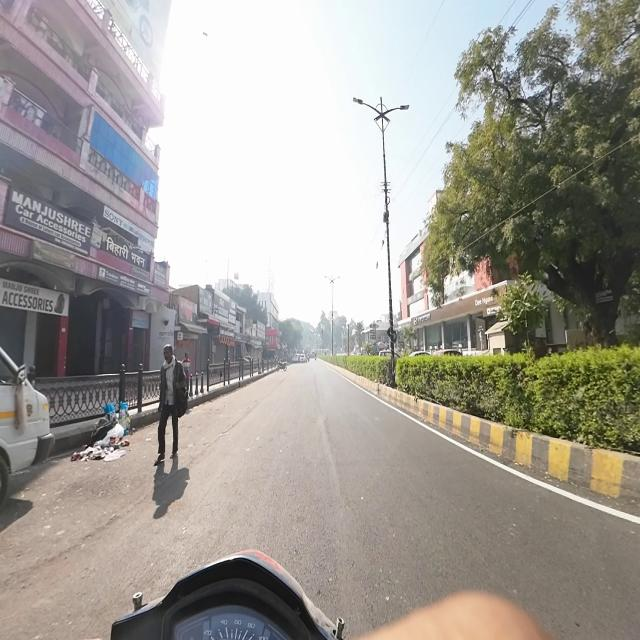Garbage: (89, 422, 125, 457)
